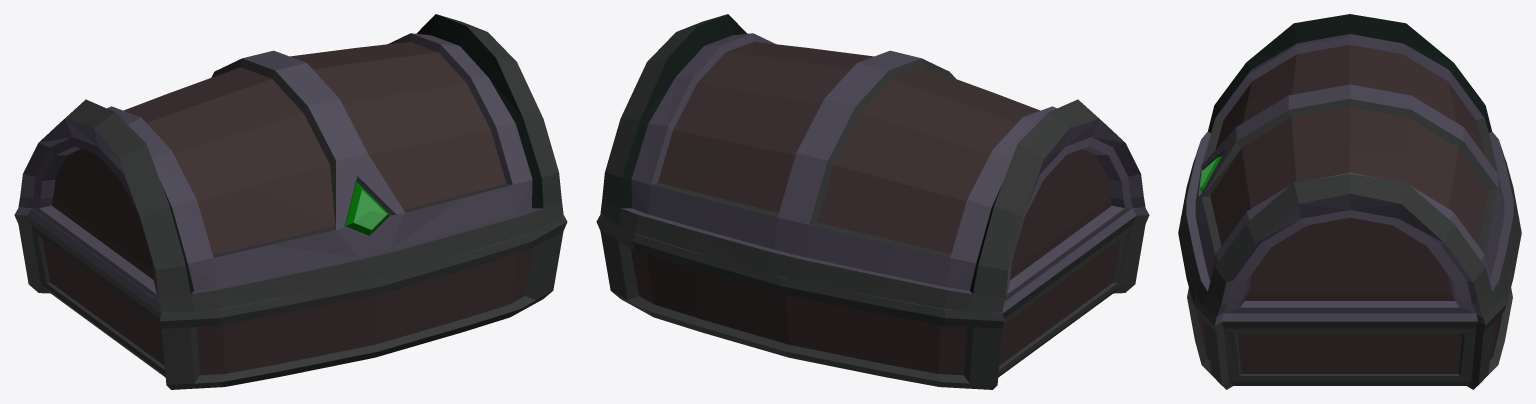
File: chest.glb
3 renders of one model, left to right at view 1: azimuth 30°, elevation 25°; view 2: azimuth 150°, elevation 25°; view 3: azimuth 270°, elevation 25°, orthographic. The views are drawn at different scales.
Visible parts, largest first — view 1: Chest_Top_01, Chest_Base_01; view 2: Chest_Top_01, Chest_Base_01; view 3: Chest_Top_01, Chest_Base_01.
Part boxes in pixels (x1,y1,x2,y2): Chest_Top_01: (18, 14, 563, 312); Chest_Base_01: (14, 207, 567, 389); Chest_Top_01: (600, 14, 1145, 312); Chest_Base_01: (596, 207, 1149, 389); Chest_Top_01: (1180, 14, 1519, 317); Chest_Base_01: (1178, 158, 1521, 389).
Size of the model in its own units: 1.4 by 0.7538 by 1.1.
Materials: 2 (2 with a texture image).
